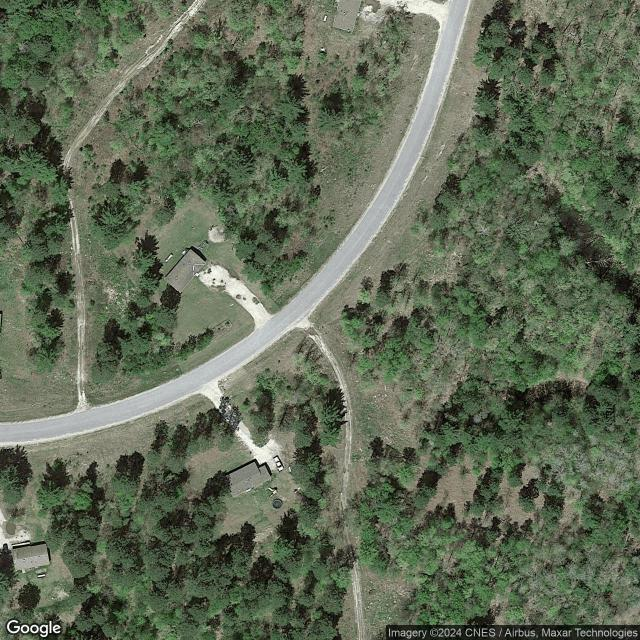Propane: (164, 252, 174, 263), (322, 13, 328, 23), (36, 573, 46, 579), (267, 486, 274, 492), (288, 465, 292, 473)
